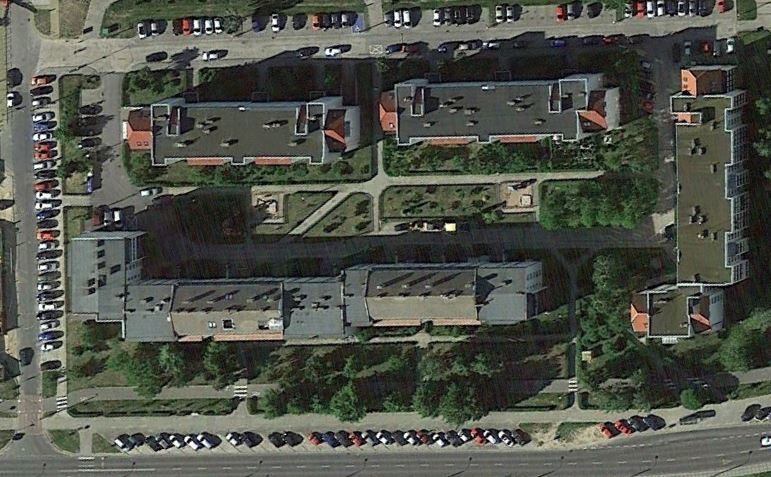block of flats: (61, 228, 554, 348), (622, 53, 757, 347), (374, 69, 626, 149), (119, 94, 365, 170)
